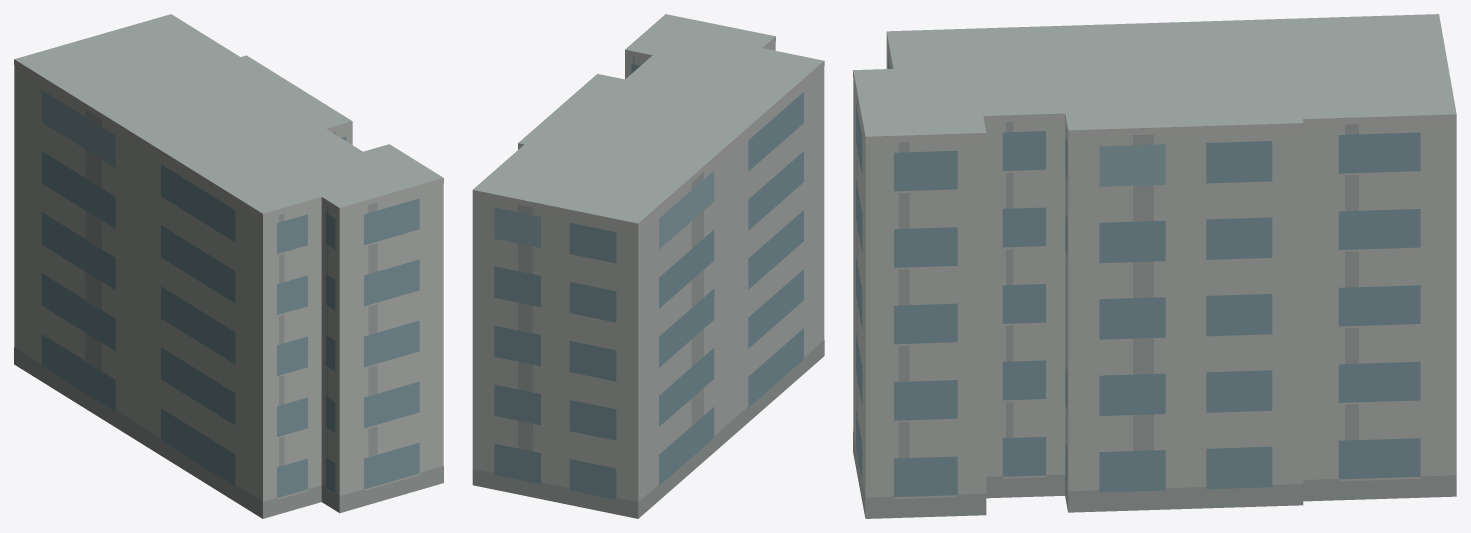
Rendered from survey-upis-32606036.glb.
The picture shows the model from 3 angles, left to right: view 1: azimuth 30°, elevation 25°; view 2: azimuth 150°, elevation 25°; view 3: azimuth 270°, elevation 25°; orthographic projection. The views are drawn at different scales.
Visible parts, largest first — view 1: survey-upis-32606036.tmp; view 2: survey-upis-32606036.tmp; view 3: survey-upis-32606036.tmp.
Part boxes in pixels (left/top/right/bottom): survey-upis-32606036.tmp: left=14, top=14, right=443, bottom=518; survey-upis-32606036.tmp: left=472, top=14, right=824, bottom=518; survey-upis-32606036.tmp: left=853, top=14, right=1456, bottom=518.
Bounding box in the file's own units: 9.44 × 13.7 × 19.61.
